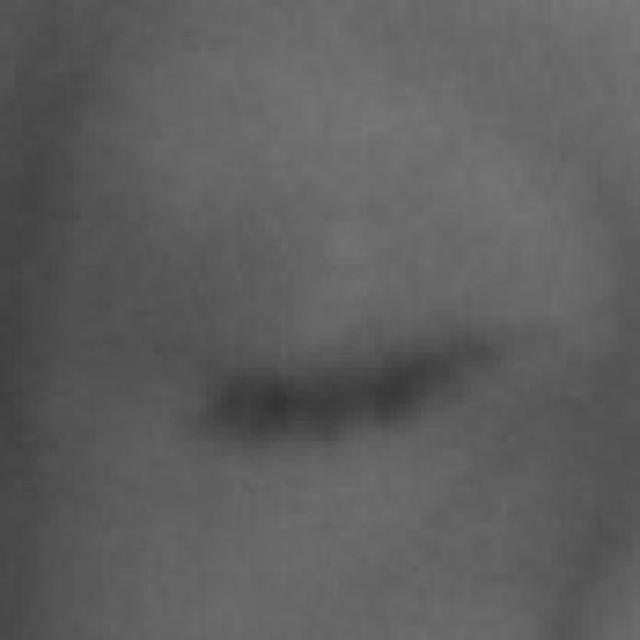drowsy: (190, 228, 504, 588)
